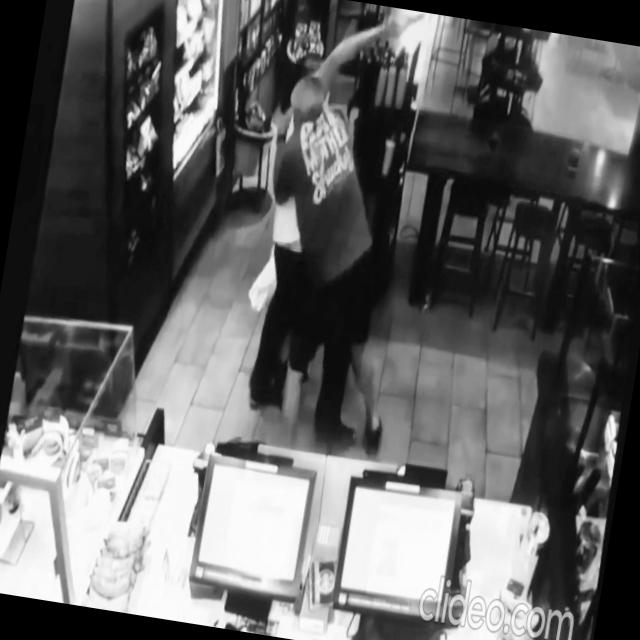gun: (380, 6, 426, 40)
person: (230, 68, 439, 461)
person with a gun: (230, 0, 425, 456)
